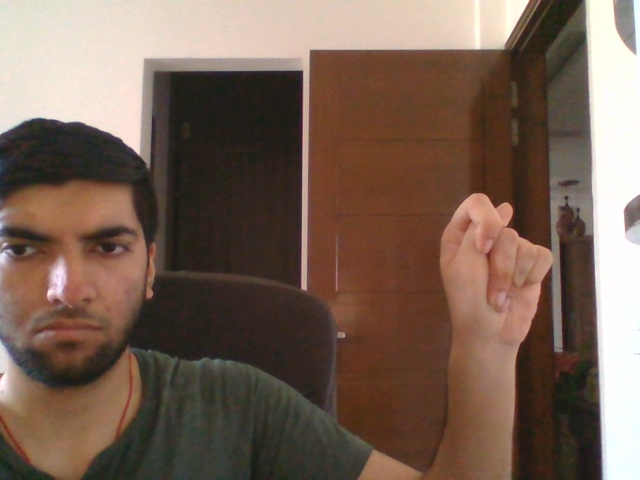LetterT: (437, 189, 552, 351)
